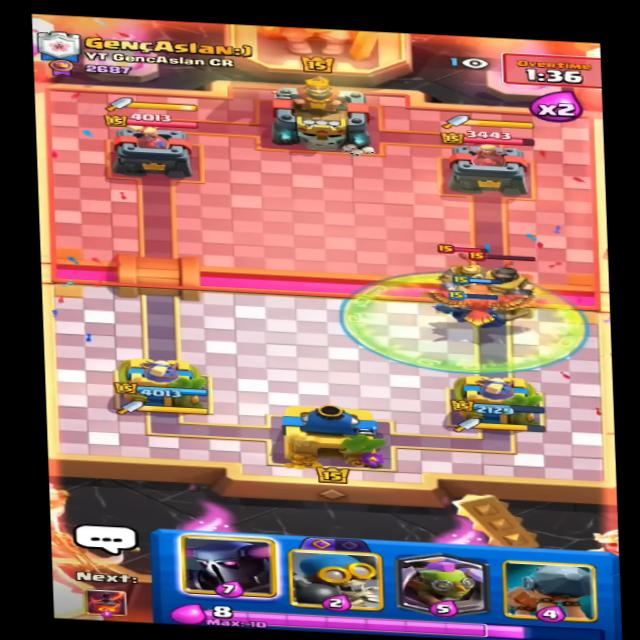mega-knight: (461, 251, 547, 306)
prince: (437, 239, 502, 295)
